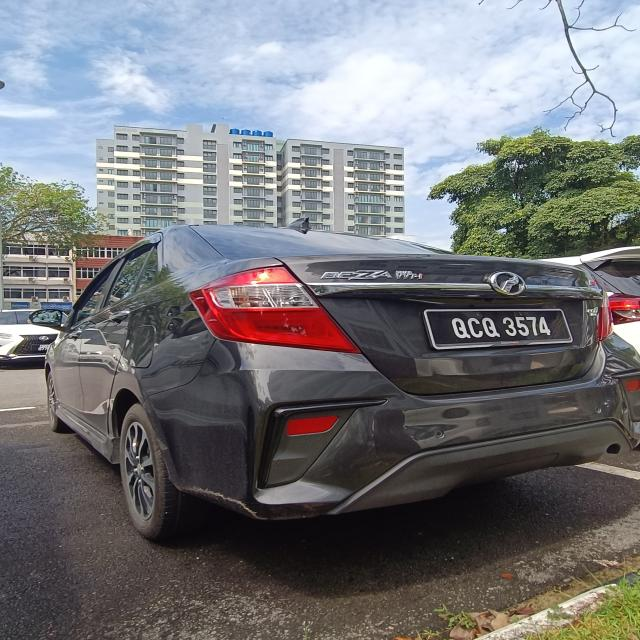PeroduaBezza: (28, 219, 639, 541)
